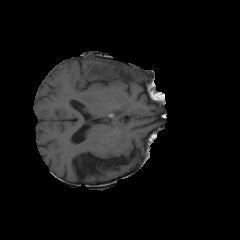glioma: (84, 56, 159, 101)
